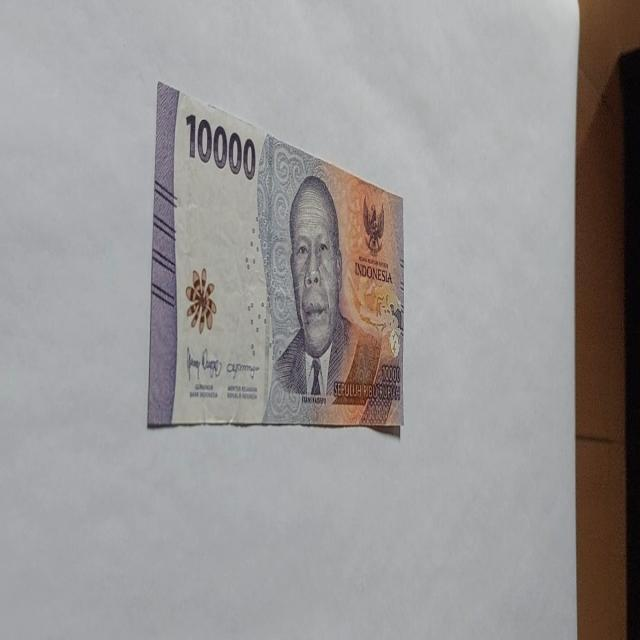sepuluh ribu rupiah: (147, 80, 406, 432), (260, 172, 396, 426), (184, 111, 256, 181)
